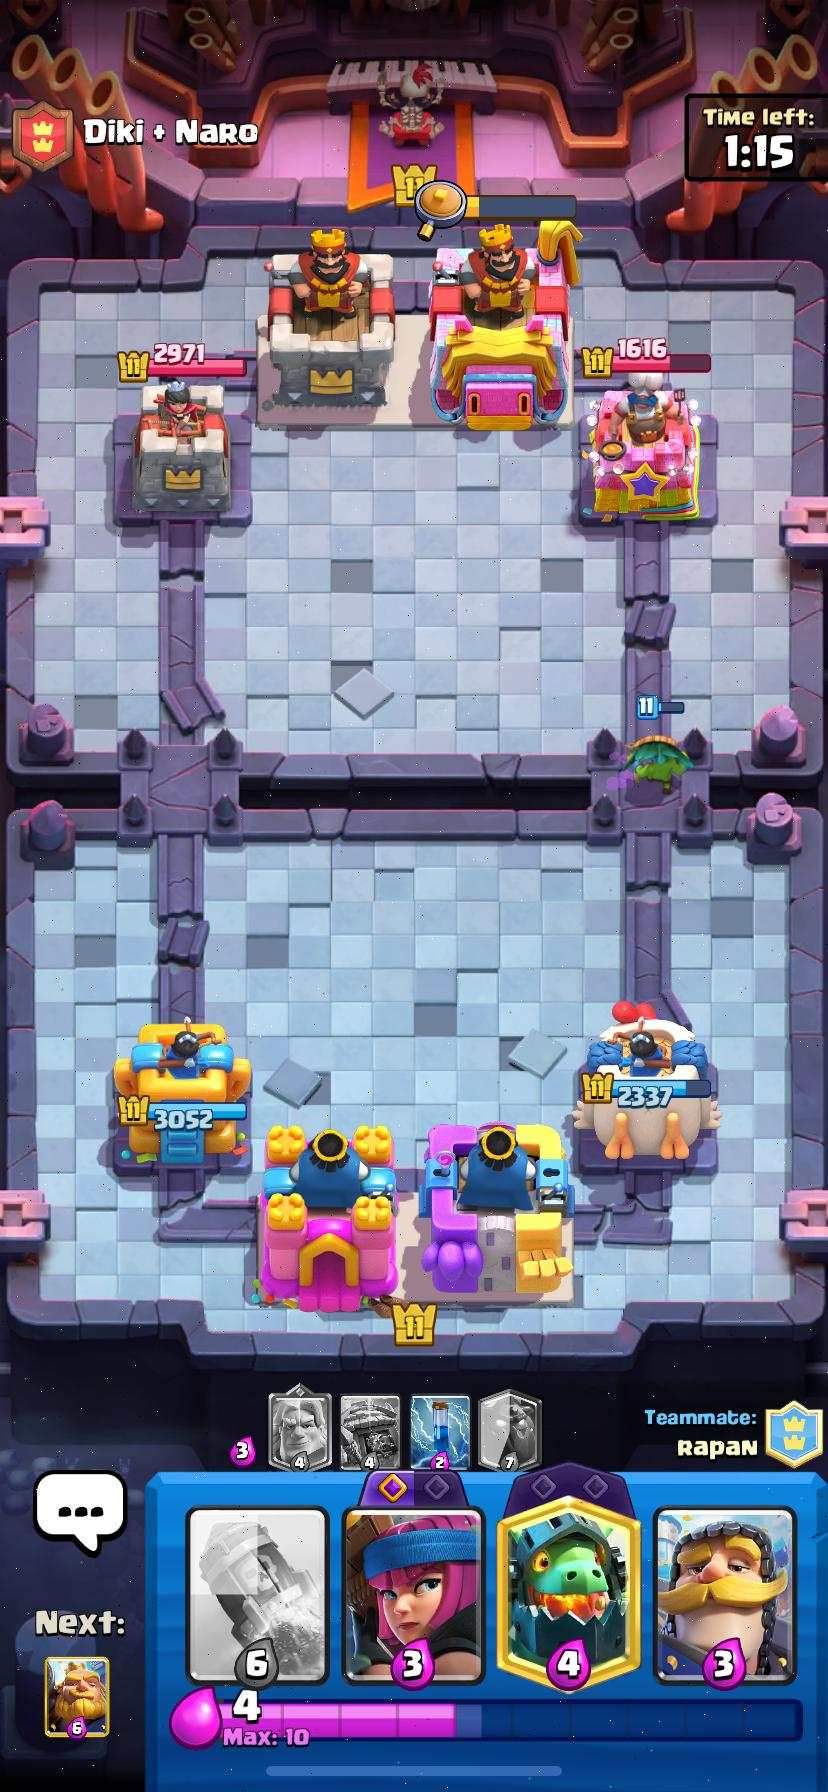EKingTower: (429, 221, 579, 431), (257, 229, 395, 410)
EnemyPanTower: (580, 389, 699, 522)
EnemyPrincessTower: (114, 385, 250, 523)
ODartGoblin: (626, 735, 693, 794)
OwnKingTower: (423, 1123, 574, 1301), (257, 1128, 396, 1312)
OwnPrincessTower: (574, 1002, 719, 1160), (114, 1019, 250, 1167)
